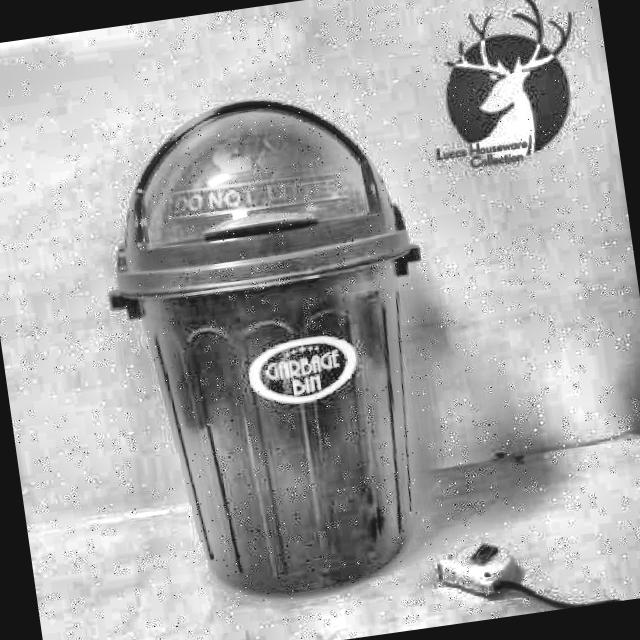Dustbin: (62, 65, 466, 622)
